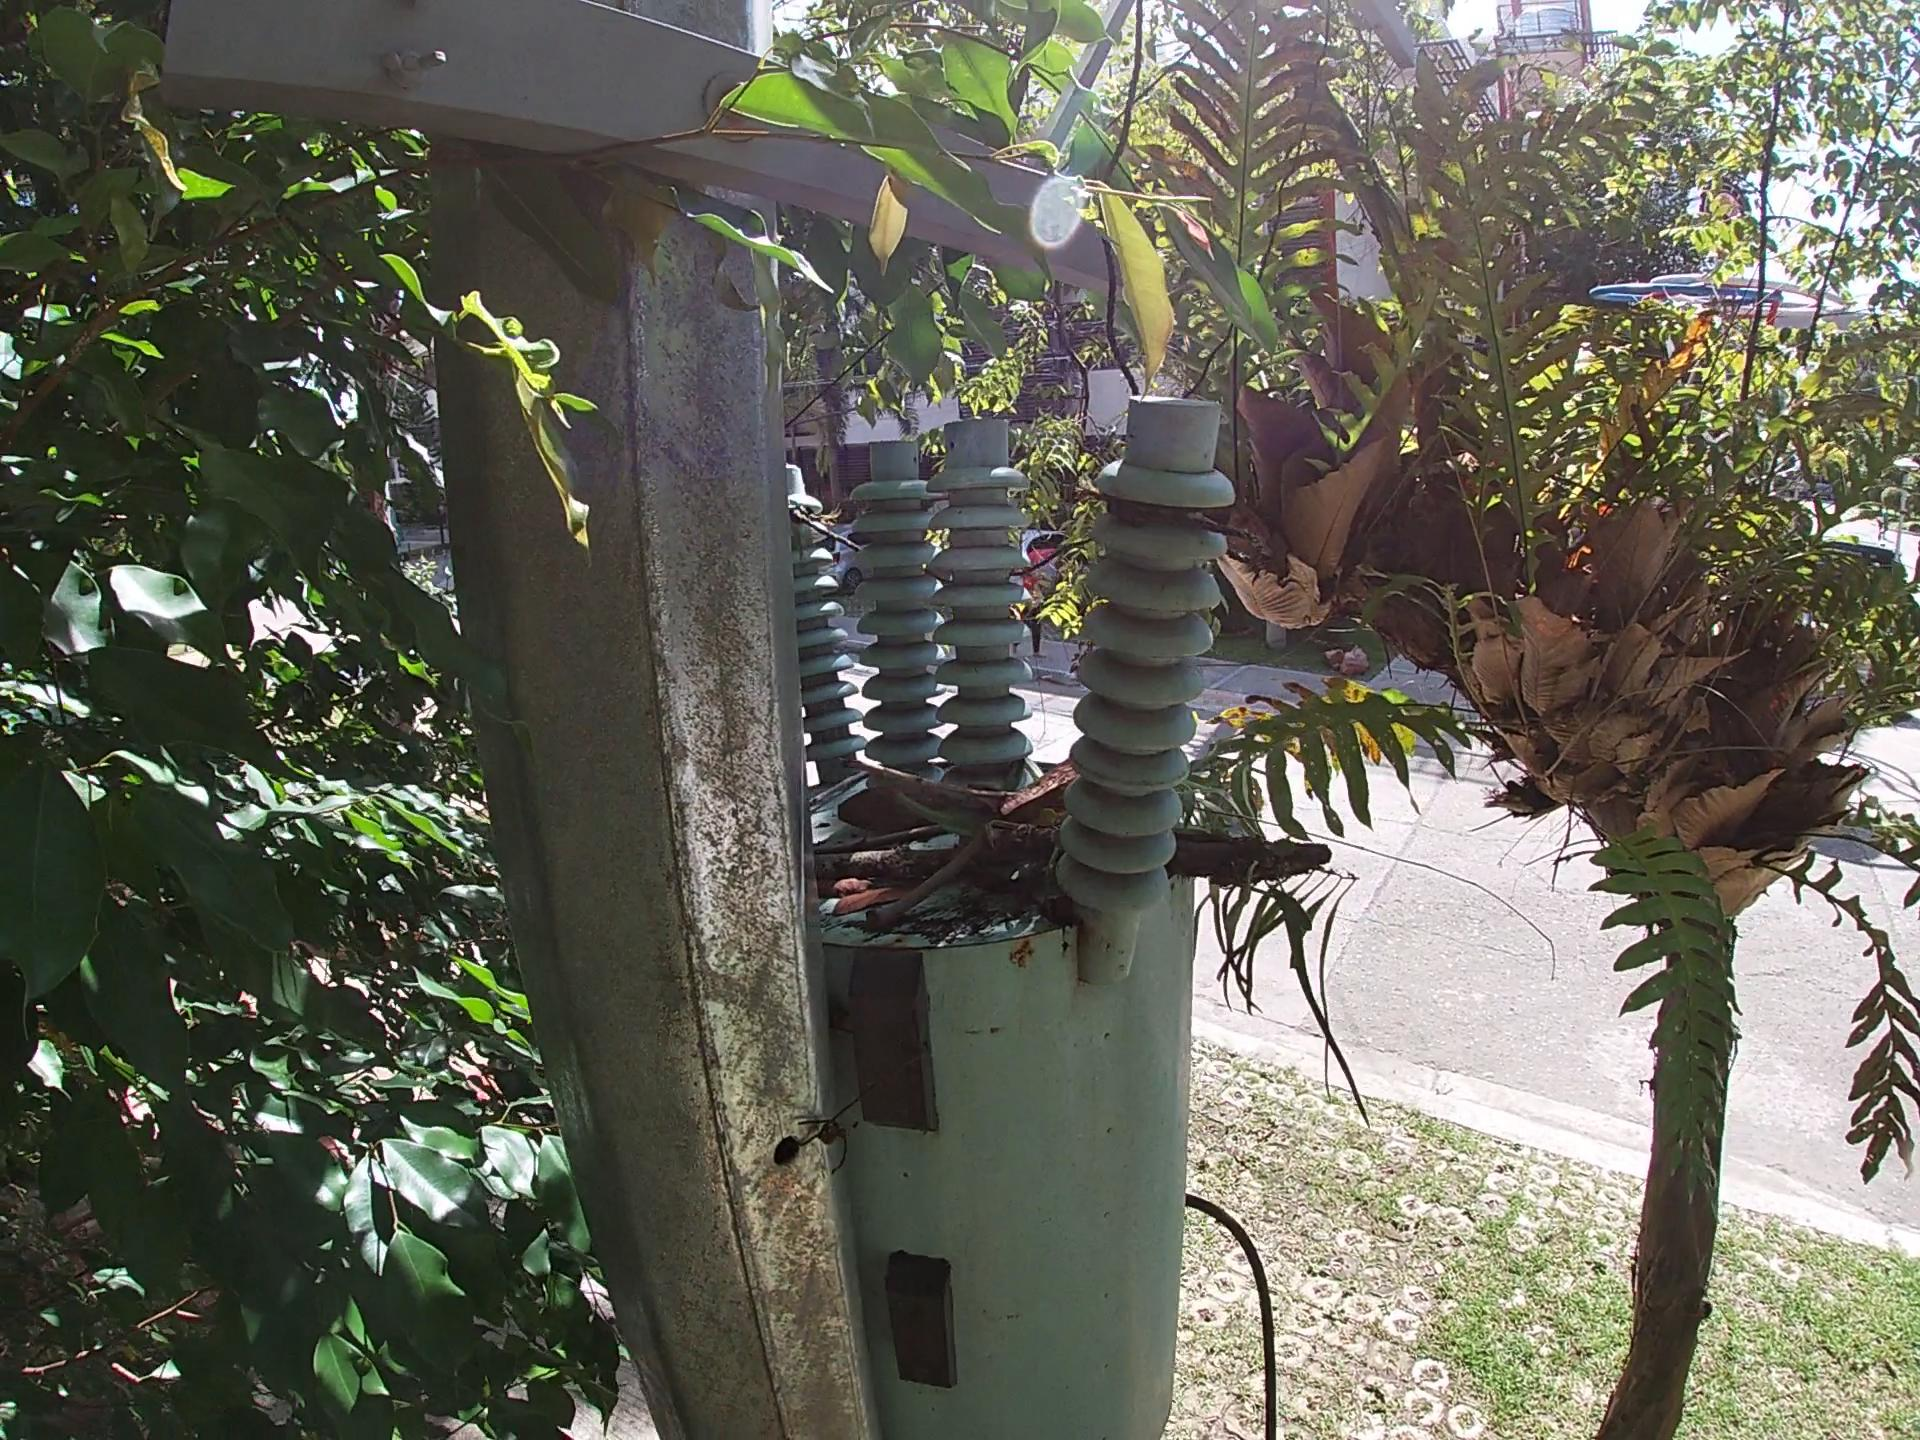leaf: (828, 864, 900, 942)
mahogany fruit: (810, 709, 999, 815), (1414, 722, 1417, 725)
tree branch: (850, 768, 1574, 964), (831, 800, 1299, 897), (872, 820, 1008, 933), (813, 715, 909, 829)
